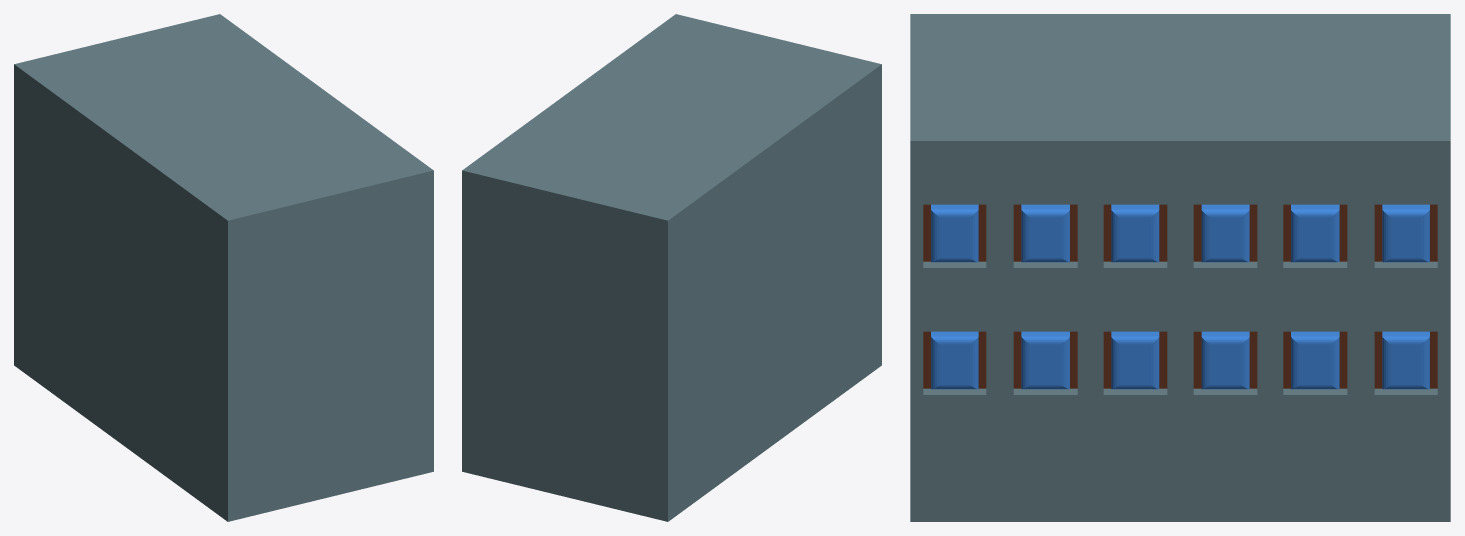
Rendered from Building.fbx.
3 renders of one model, left to right at view 1: azimuth 30°, elevation 25°; view 2: azimuth 150°, elevation 25°; view 3: azimuth 270°, elevation 25°, orthographic. The views are drawn at different scales.
Parts seen in each view (by area): view 1: Cube; view 2: Cube; view 3: Cube.
Boxes of the visible parts, x1,y1,x2,y2 form: Cube: [14, 14, 433, 521]; Cube: [462, 14, 881, 521]; Cube: [910, 14, 1450, 521].
Size of the model in its own units: 1471 by 2033 by 2614.
